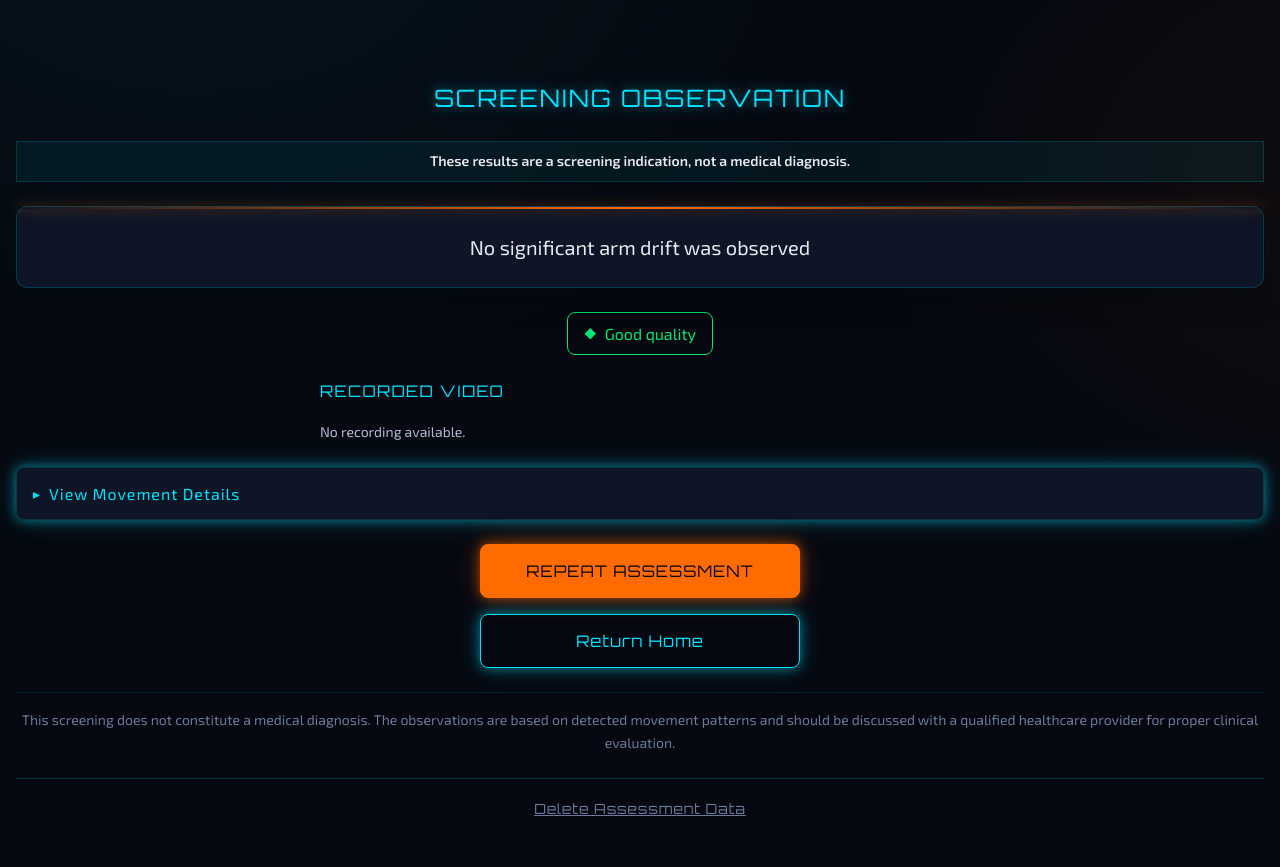
Test: ResultsScreen › Collapsible Movement Details › shows pronation in degrees
Click the button "▸ View Movement Details". click: [145, 494]
box: [16,467,1264,520]
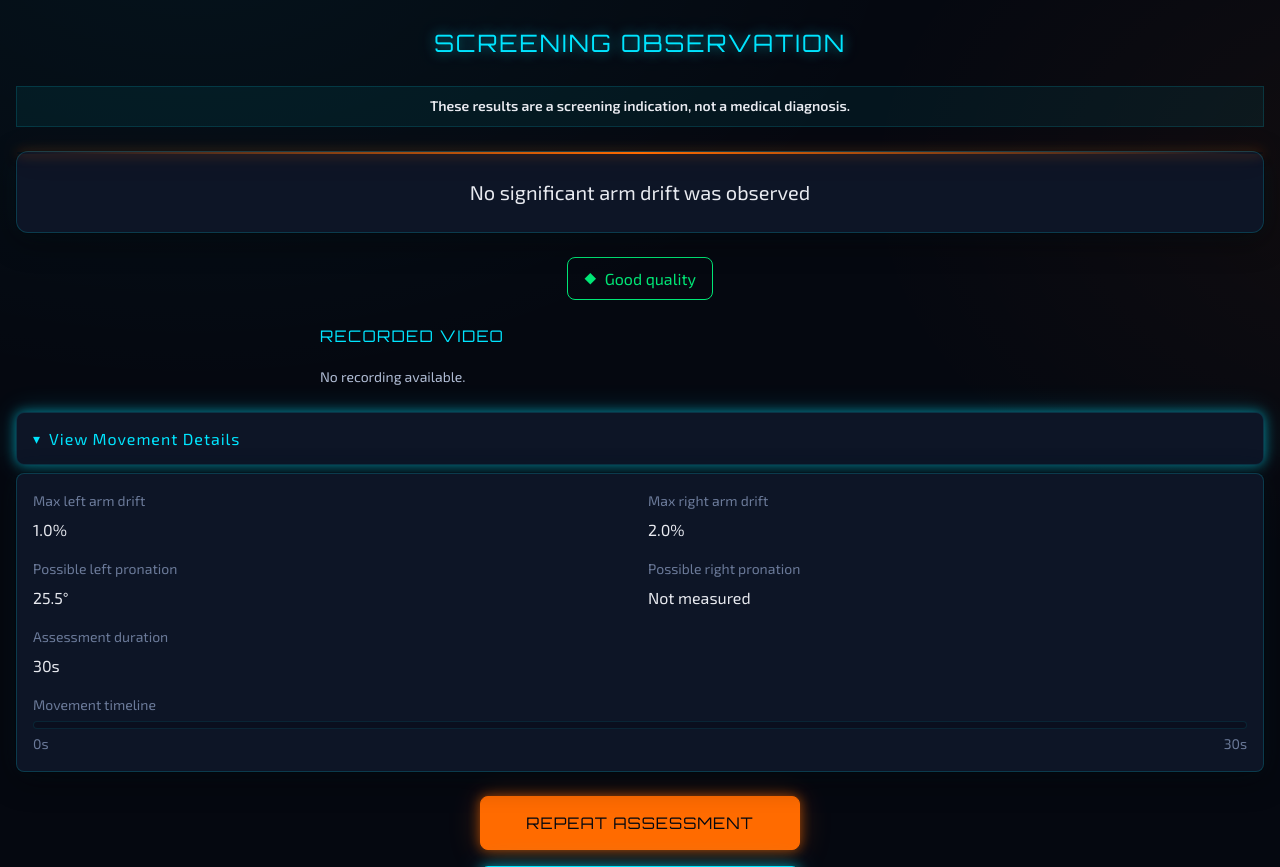
Check: the text "25.5°" is shown, box [33,588,69,607]
Check: the text "Not measured" is shown, box [648,588,751,607]
